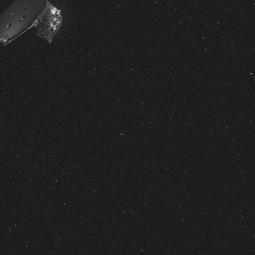lisa_pathfinder: (0, 0, 68, 63)
